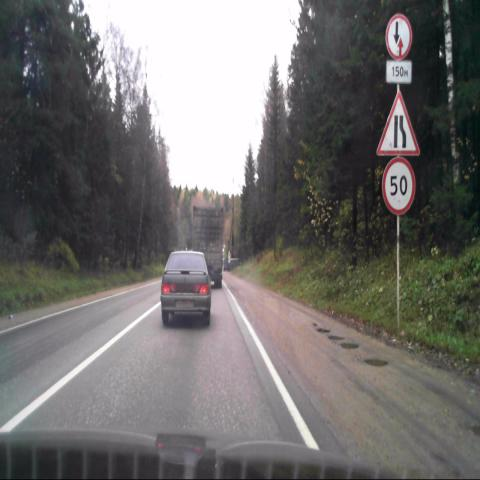2_6: (385, 13, 412, 60)
8_1_1: (386, 61, 412, 84)
